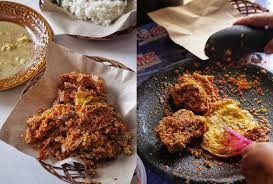ayam_geprek: (36, 71, 154, 179)
